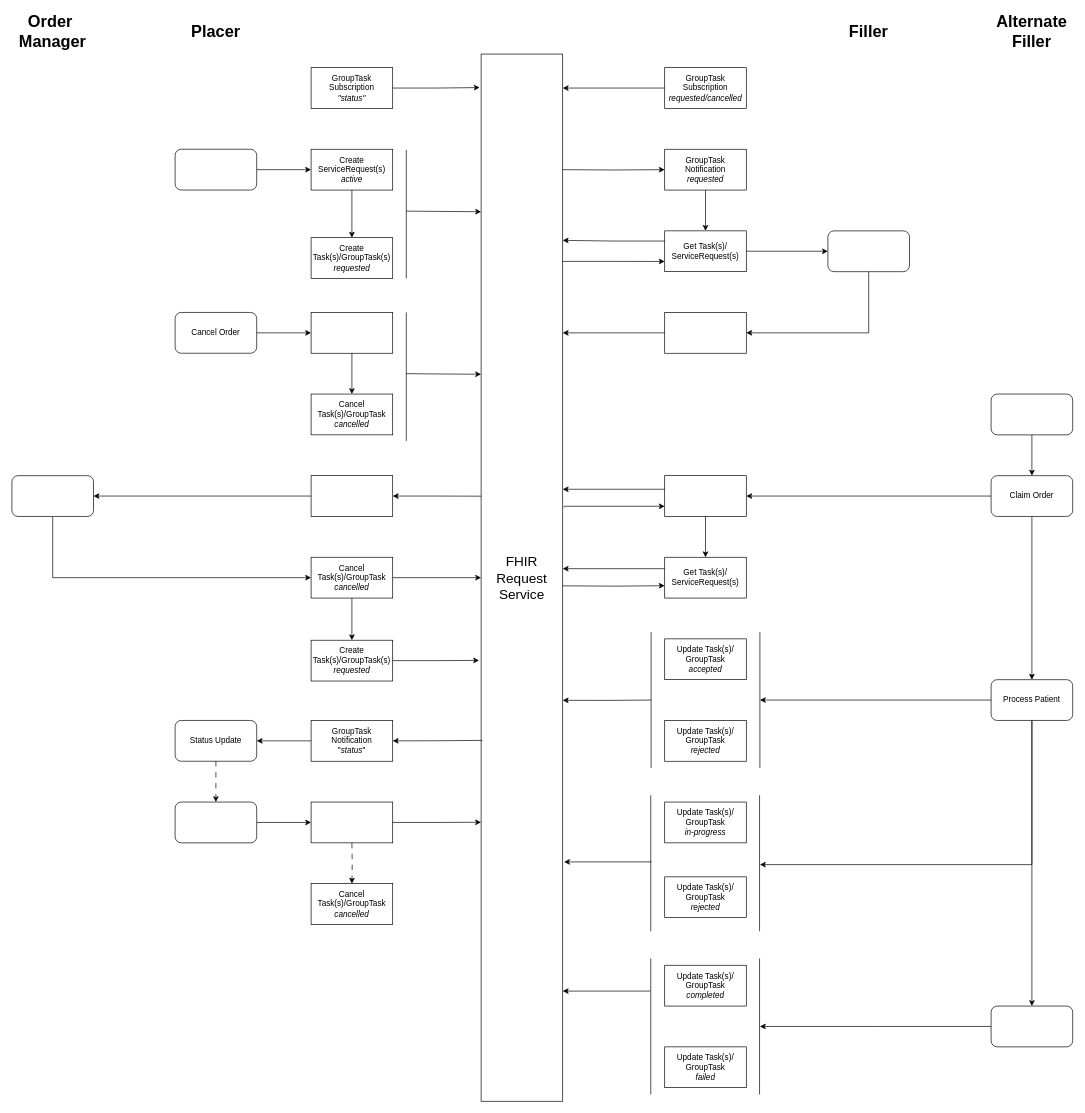
Image size: 1085x1113. Some labels were removed from this diagram. Here are the shapes that lost their labels. From the top down, the centre of each, then its label:
At point (215, 169): "Create Order".
At point (868, 251): "Process Order".
At point (351, 332): "Cancel ServiceRequest revoked".
At point (705, 332): "Update Task(s)/ GroupTask received".
At point (1031, 414): "Scan Barcode".
At point (52, 495): "Claim Order Fulfilment".
At point (351, 495): "Claim Operation".
At point (705, 495): "Claim Operation barcode".
At point (215, 822): "Complete Order".
At point (351, 822): "Complete ServiceRequest completed".
At point (1031, 1026): "Finalise Fulfilment".
